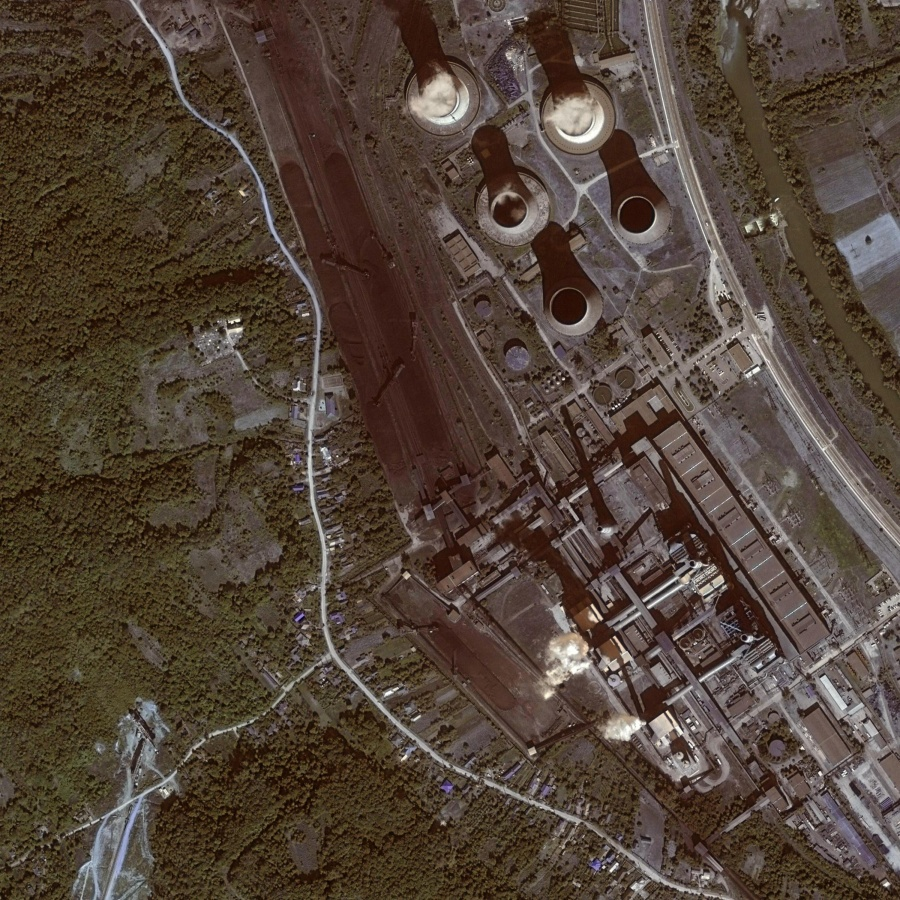PowerPlant: (429, 541, 644, 770)
